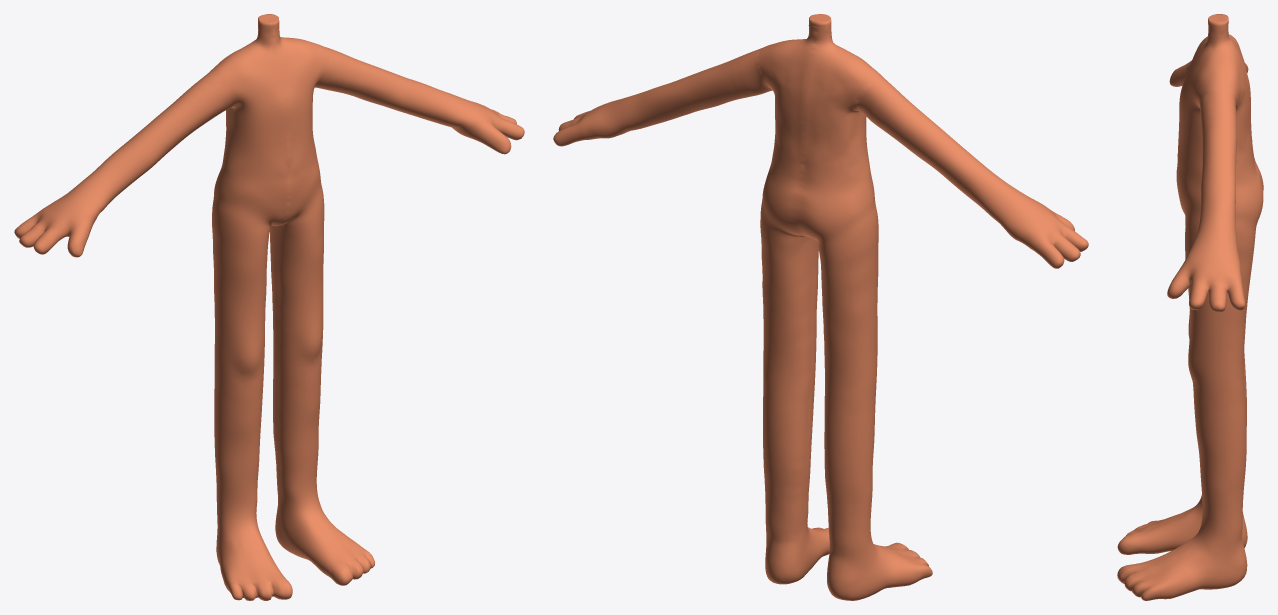
Rendered from Dummy_body_001.glb.
The picture shows the model from 3 angles, left to right: view 1: azimuth 30°, elevation 25°; view 2: azimuth 150°, elevation 25°; view 3: azimuth 270°, elevation 25°; orthographic projection. The views are drawn at different scales.
Visible parts, largest first — view 1: body_base; view 2: body_base; view 3: body_base.
Part boxes in pixels (x1,y1,x2,y2): body_base: (14, 14, 524, 600); body_base: (553, 14, 1088, 600); body_base: (1117, 14, 1263, 600).
Size of the model in its own units: 10.19 by 10.65 by 2.56.
